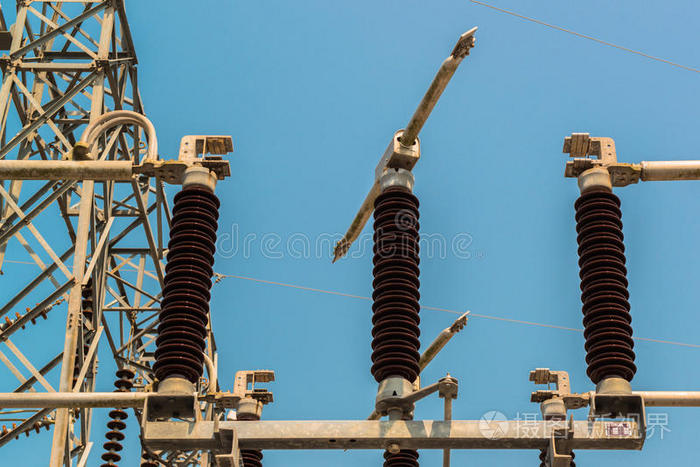insulator: (156, 189, 224, 373), (574, 194, 638, 383), (369, 188, 423, 381), (95, 369, 135, 467), (1, 299, 52, 330), (1, 415, 53, 444)
